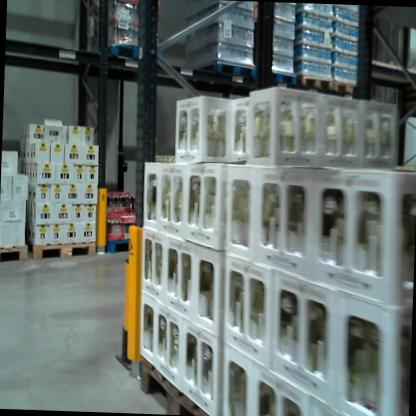pallet: (132, 356, 226, 416), (25, 228, 98, 269), (183, 55, 262, 84), (91, 222, 139, 264), (101, 39, 163, 67), (0, 235, 31, 269), (261, 63, 300, 87), (296, 73, 334, 95), (334, 81, 365, 96)
